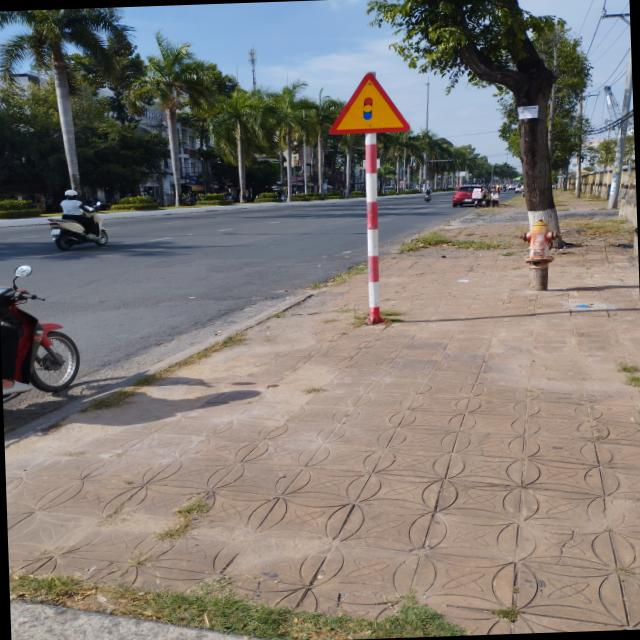Duong_Co_Go_Giam_Toc: (326, 70, 410, 134)
